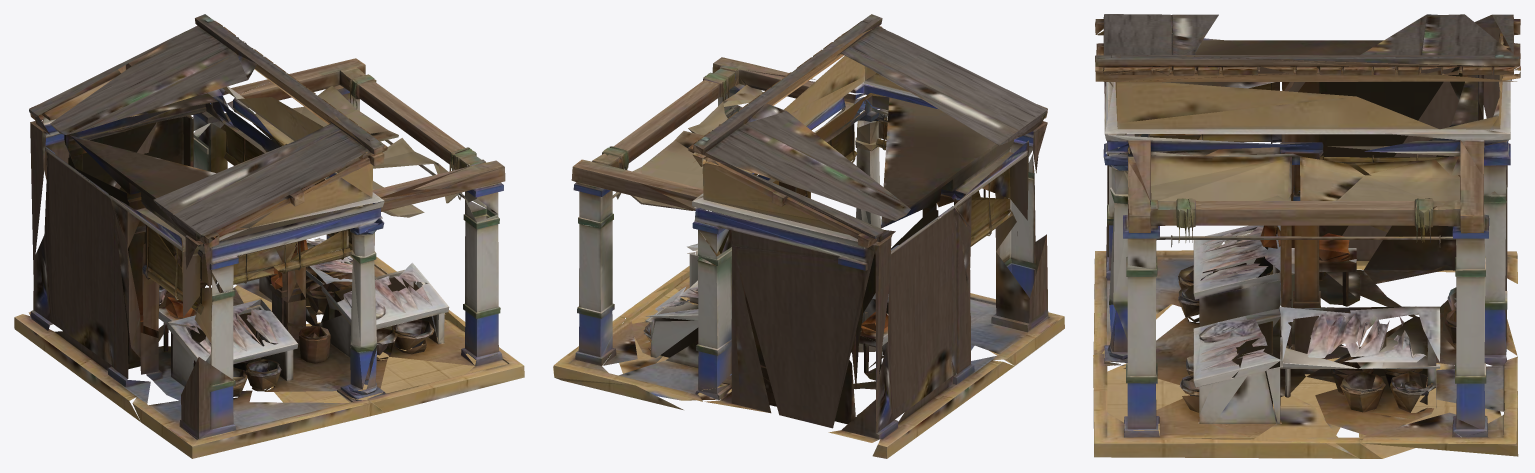
The model's file is ufish.glb.
3 views of the same model, side by side, from view 1: azimuth 30°, elevation 25°; view 2: azimuth 150°, elevation 25°; view 3: azimuth 270°, elevation 25° (orthographic). The views are drawn at different scales.
Parts seen in each view (by area): view 1: Object_10, Object_16, Object_8, Object_6, Object_14, Object_15, Object_11, Object_5, Object_13, Object_9, Object_12, Object_17 (+2 smaller); view 2: Object_6, Object_16, Object_10, Object_8, Object_15, Object_14, Object_4, Object_12, Object_13, Object_11, Object_9, Object_5 (+2 smaller); view 3: Object_14, Object_10, Object_11, Object_12, Object_7, Object_16, Object_15, Object_8, Object_6, Object_5, Object_17, Object_13 (+2 smaller).
Part boxes in pixels (x1,y1,x2,y2): Object_10: (28,138,524,412); Object_16: (50,14,387,316); Object_8: (153,58,388,359); Object_6: (42,95,384,458); Object_14: (181,41,505,386); Object_15: (29,21,474,365); Object_11: (75,140,500,374); Object_5: (206,228,387,391); Object_13: (14,93,298,421); Object_9: (128,103,325,400); Object_12: (45,74,469,402); Object_17: (262,146,449,344); Object_6: (616,207,1064,428); Object_16: (603,34,1028,365); Object_10: (553,101,971,442); Object_8: (571,26,1047,297); Object_15: (639,81,1038,397); Object_14: (693,14,1035,367); Object_4: (704,97,888,424); Object_12: (602,76,898,295); Object_13: (851,247,1014,458); Object_11: (613,105,1017,400); Object_9: (757,95,1047,389); Object_5: (640,117,887,400); Object_14: (1095,54,1516,358); Object_10: (1093,62,1518,458); Object_11: (1124,81,1501,458); Object_12: (1104,156,1459,362); Object_7: (1106,135,1440,435); Object_16: (1111,14,1520,439); Object_15: (1103,14,1520,439); Object_8: (1095,14,1489,365); Object_6: (1093,79,1517,411); Object_5: (1109,133,1506,419); Object_17: (1193,154,1447,423); Object_13: (1188,65,1517,322).
Size of the model in its own units: 0.7682 by 0.5927 by 0.7177.
Materials: 1 (1 with a texture image).
